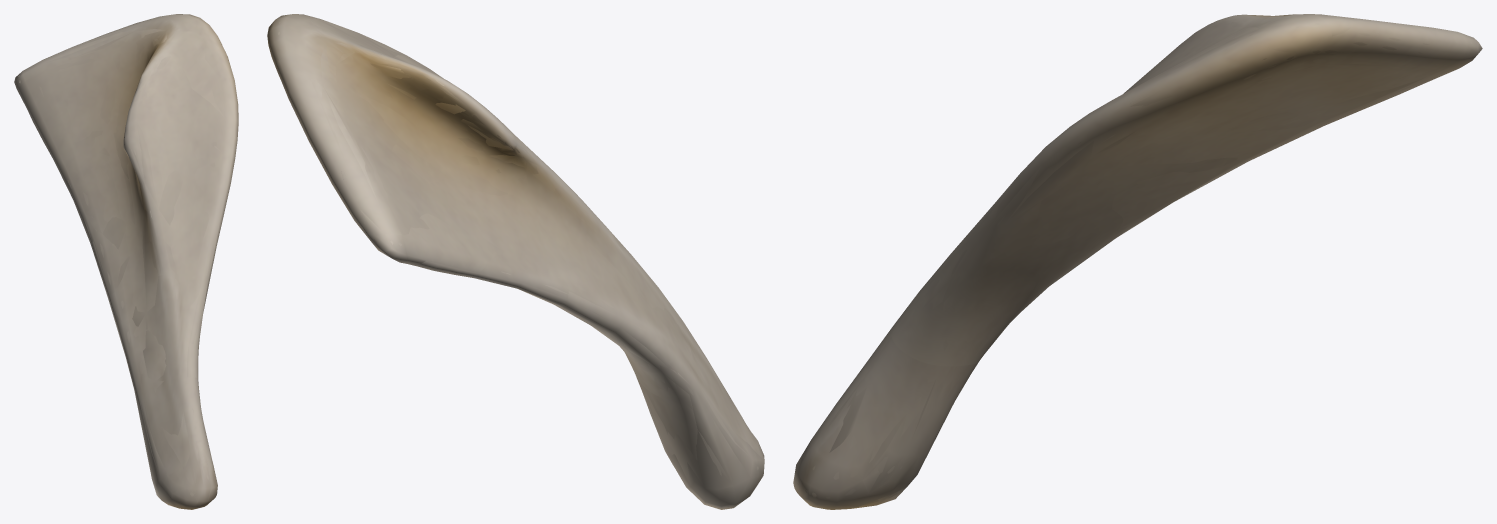
Rendered from R Scapula.fbx.
The picture shows the model from 3 angles, left to right: view 1: azimuth 30°, elevation 25°; view 2: azimuth 150°, elevation 25°; view 3: azimuth 270°, elevation 25°; orthographic projection. The views are drawn at different scales.
Parts seen in each view (by area): view 1: R Scapula, R Scapula low, R Scapula high; view 2: R Scapula, R Scapula low, R Scapula high; view 3: R Scapula, R Scapula high, R Scapula low.
Boxes of the visible parts, x1=… form: R Scapula: x1=14, y1=14, x2=238, y2=509; R Scapula low: x1=14, y1=14, x2=237, y2=508; R Scapula high: x1=18, y1=14, x2=236, y2=506; R Scapula: x1=267, y1=14, x2=764, y2=509; R Scapula low: x1=268, y1=15, x2=764, y2=508; R Scapula high: x1=278, y1=16, x2=758, y2=507; R Scapula: x1=793, y1=14, x2=1482, y2=509; R Scapula high: x1=797, y1=15, x2=1479, y2=505; R Scapula low: x1=794, y1=14, x2=1477, y2=509.
Size of the model in its own units: 6.86 by 13.33 by 13.9.
